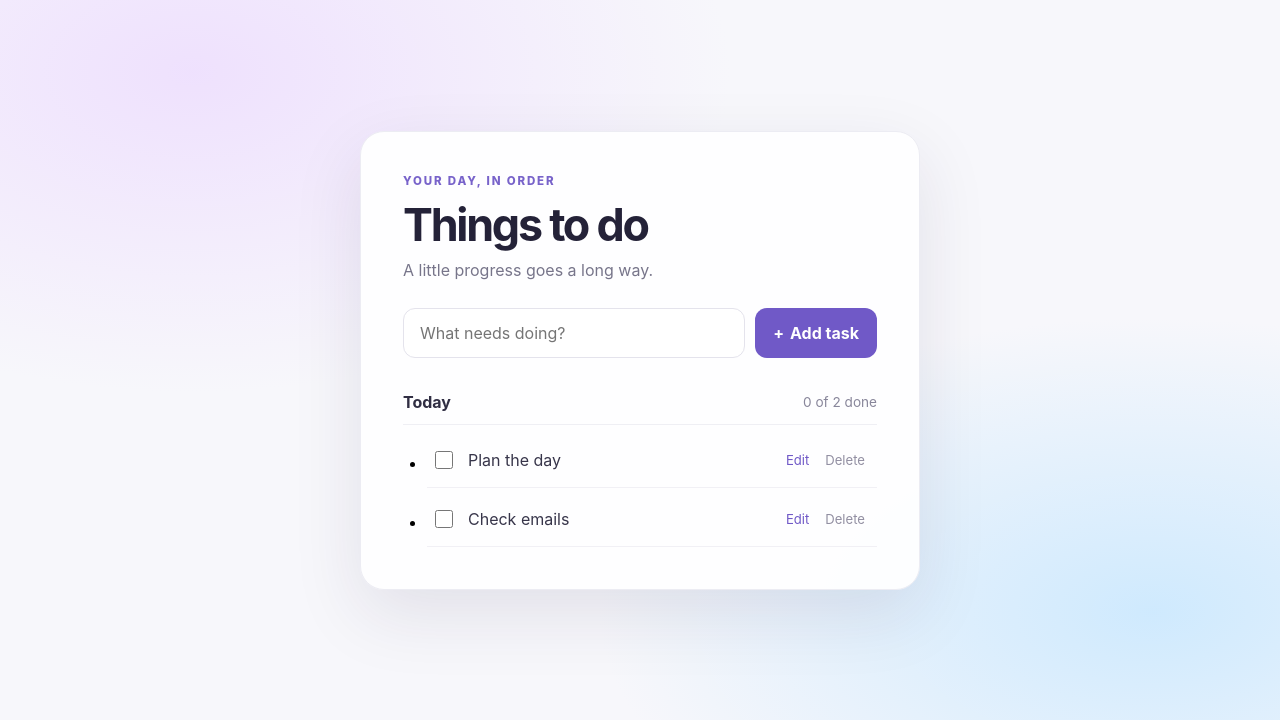
Test: cancel discards edits and add and delete still work
The image size is (1280, 720).
Click the button "Edit" in the row of "Check emails": (798, 518) [778,504,817,532]
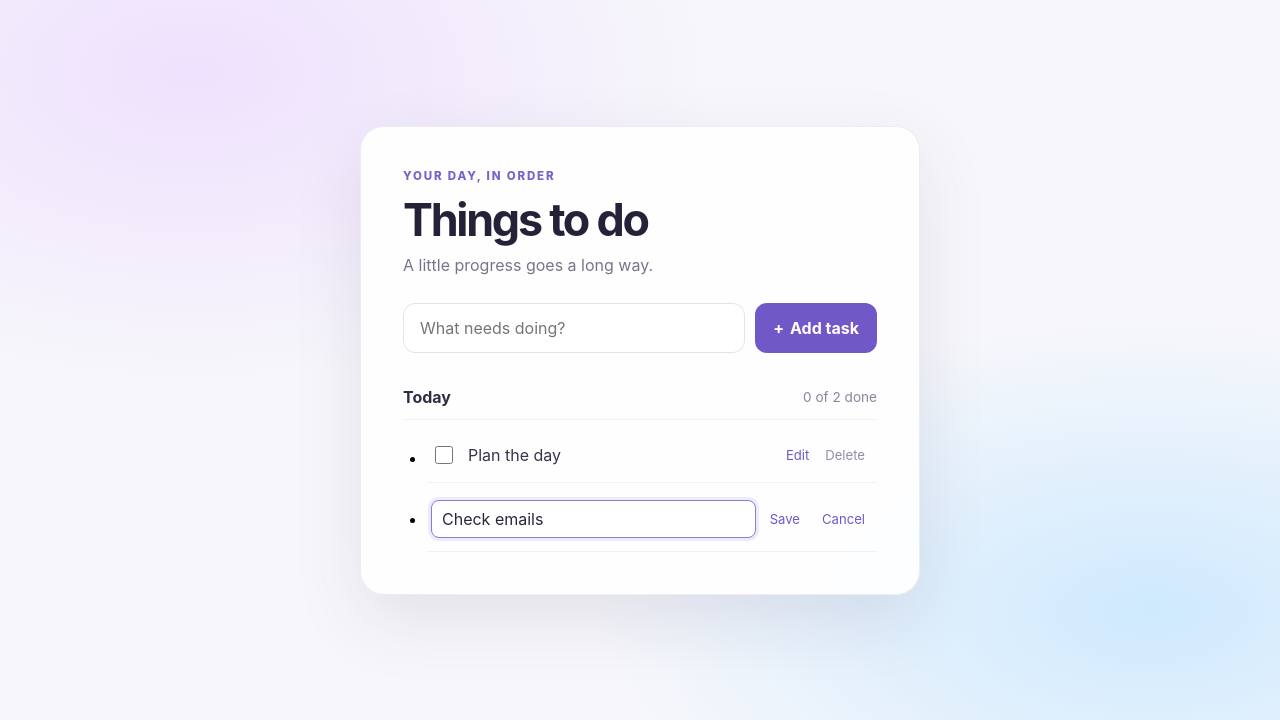
Replace the text in the field named "Edit Check emails" with "Changed title": (593, 518) [431,500,756,538]
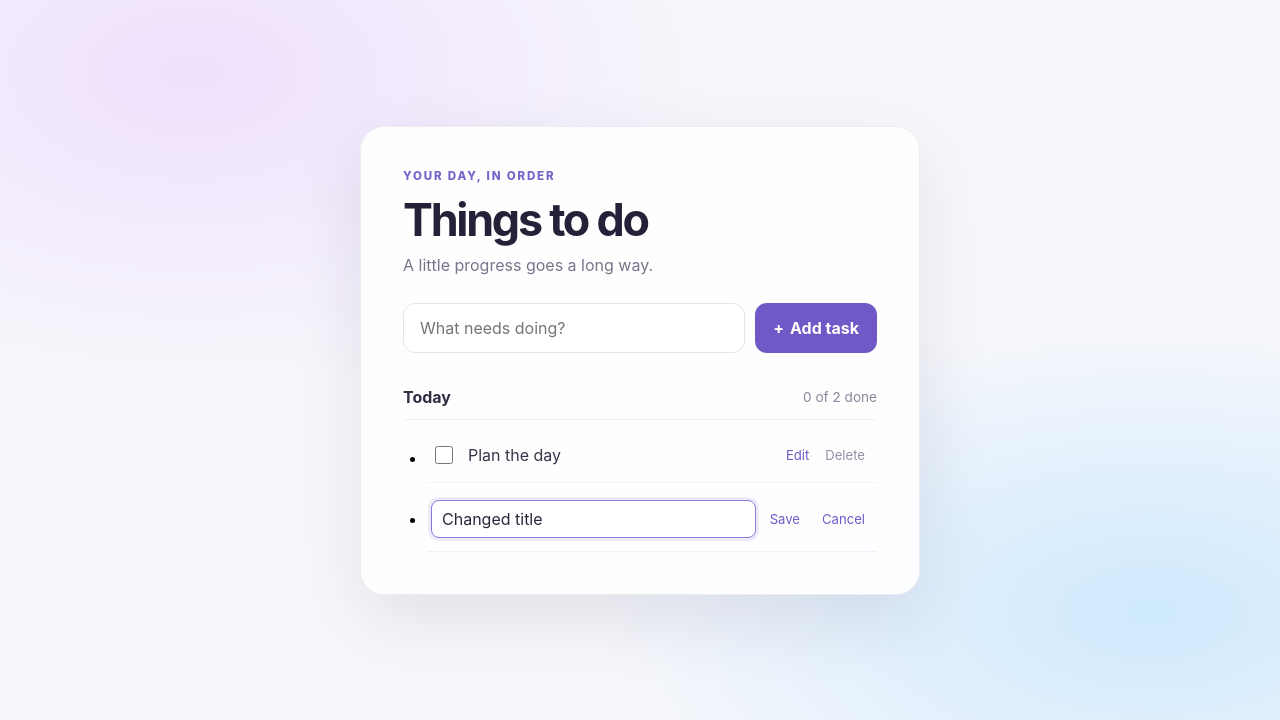
Click the button "Cancel": (844, 518) [814,504,873,532]
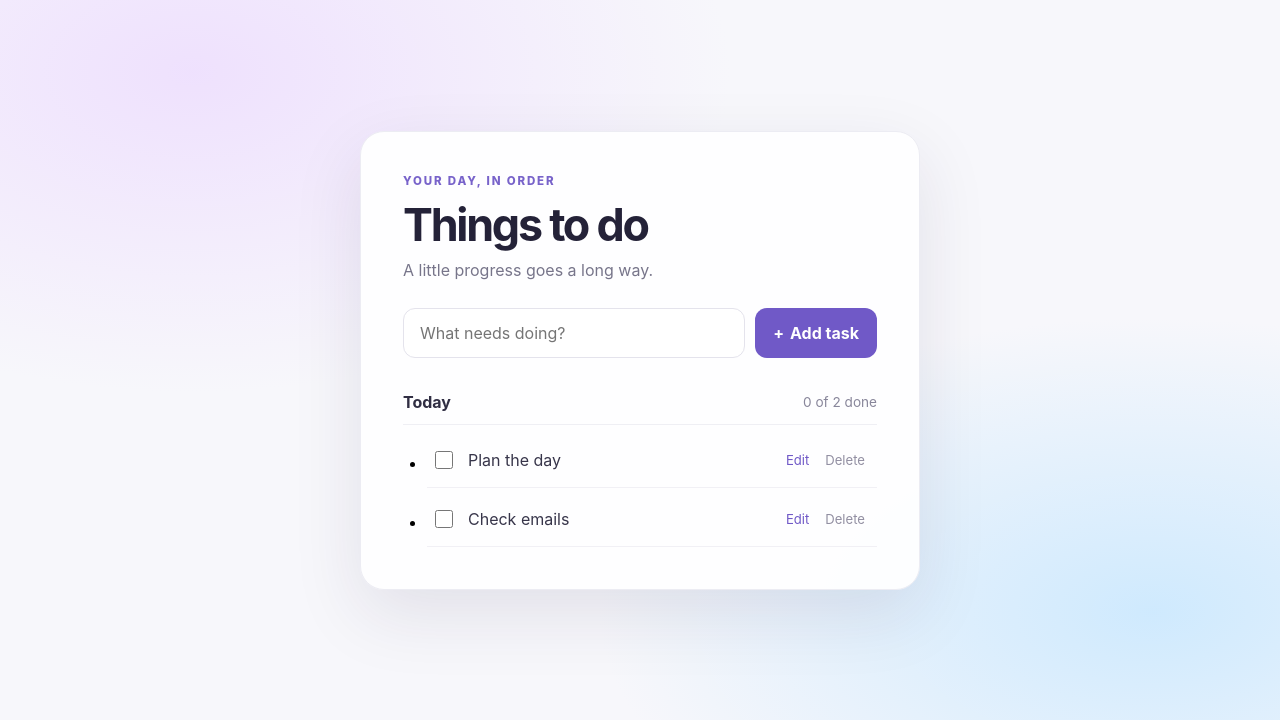
Expected: the text "Changed title" is not shown
Now the text "Check emails" is shown, box [468,508,569,528]
Click the button named "Delete Check emails": (845, 518) [817,504,873,532]
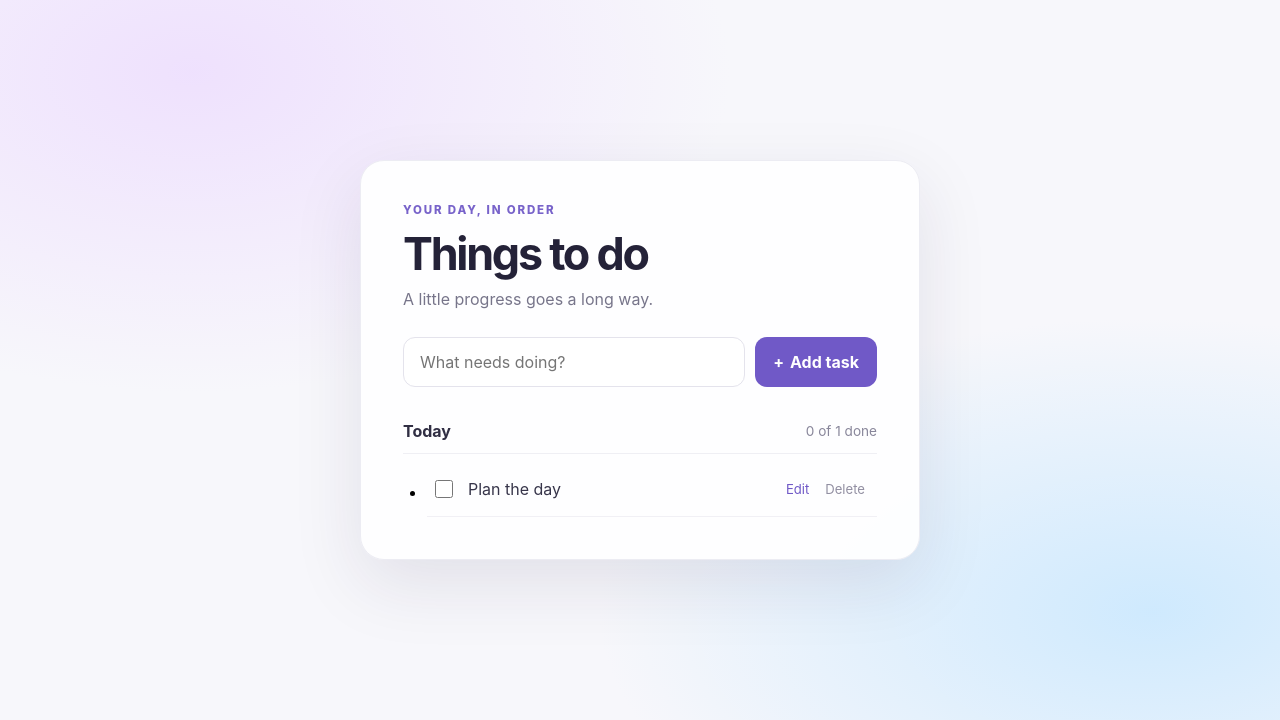
In the field named "New task": (574, 362) [403,337,745,387], type "Read a book"
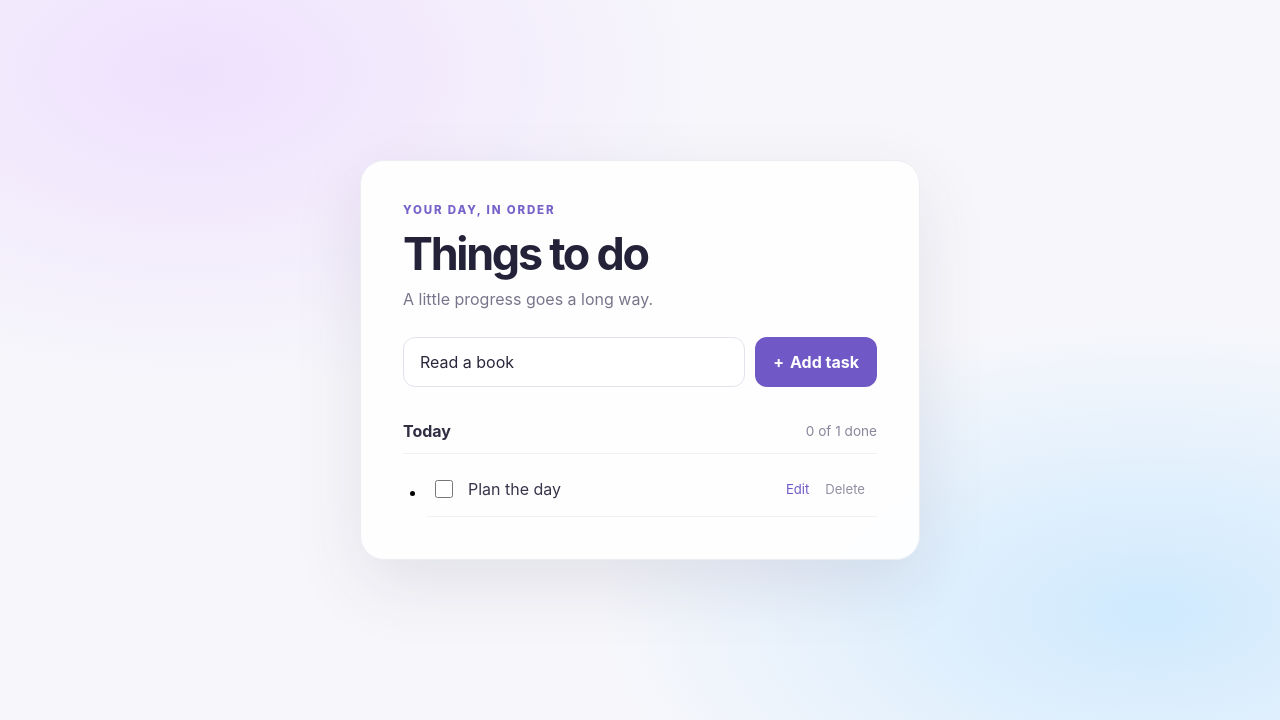
Click the button "+ Add task": (816, 362) [755,337,877,387]
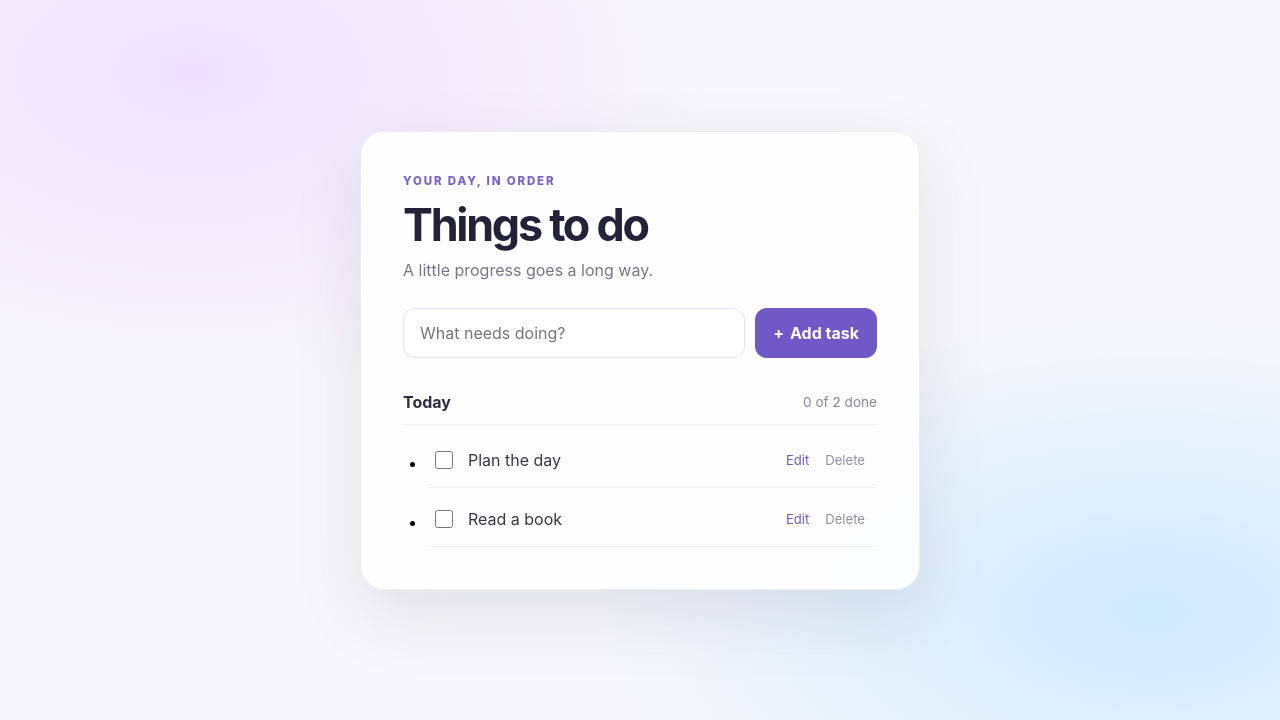
Expected: the text "Check emails" is not shown
Now the text "Read a book" is shown, box [468,508,562,528]
